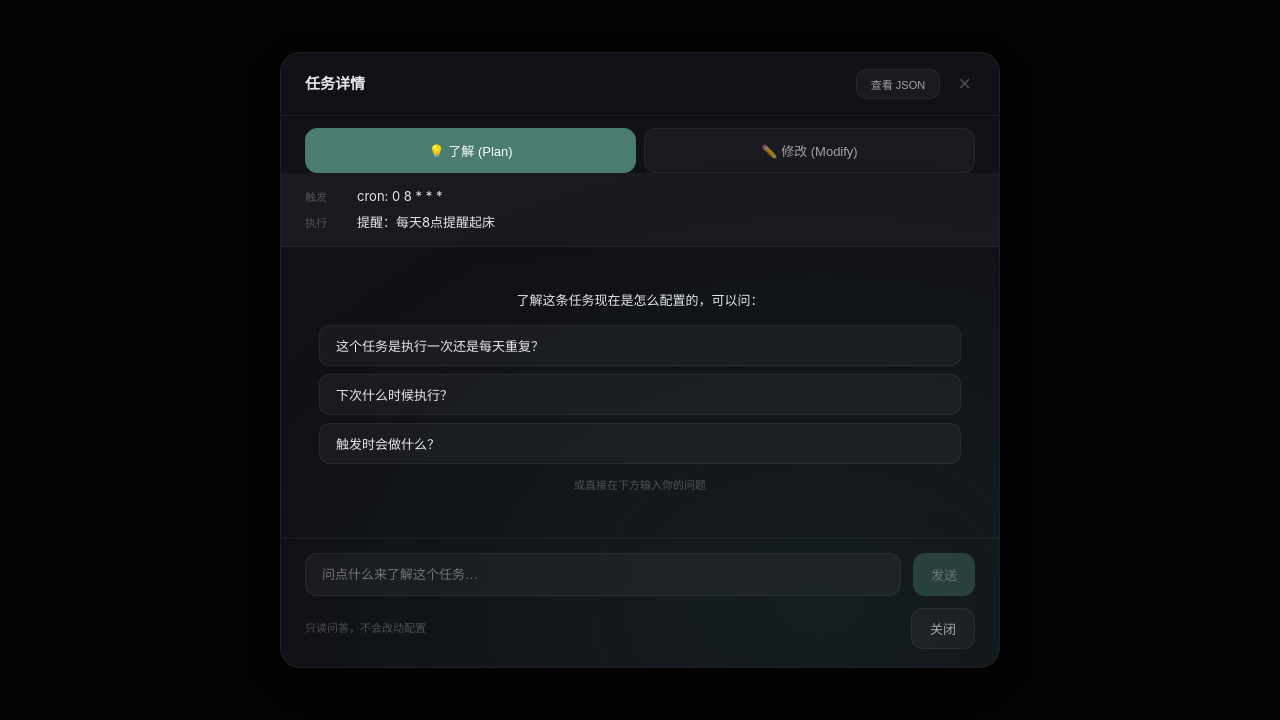
Test: ReviseChatModal › explain 失败时把错误写进助手气泡而非崩溃
The image size is (1280, 720).
Click the button "这个任务是执行一次还是每天重复？".
click(440, 346)  # box [319,325,961,366]
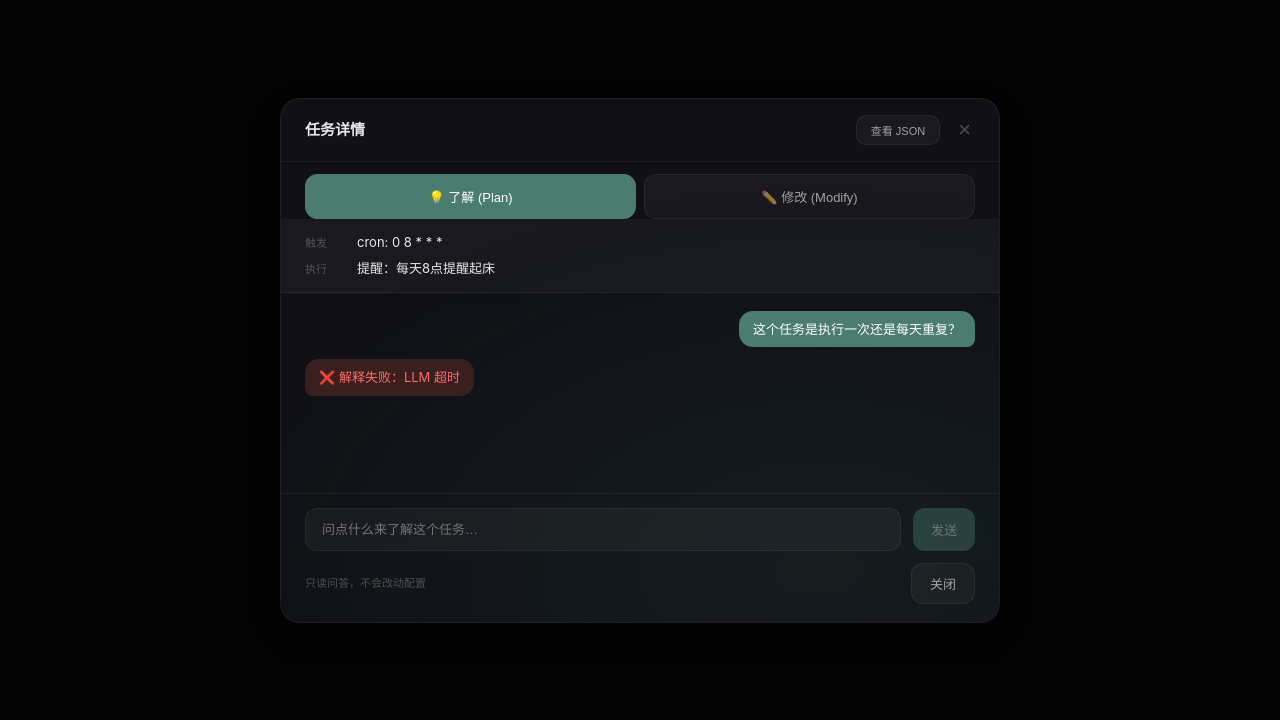
Now the text "❌ 解释失败：LLM 超时" is shown, box [319,369,460,385]
